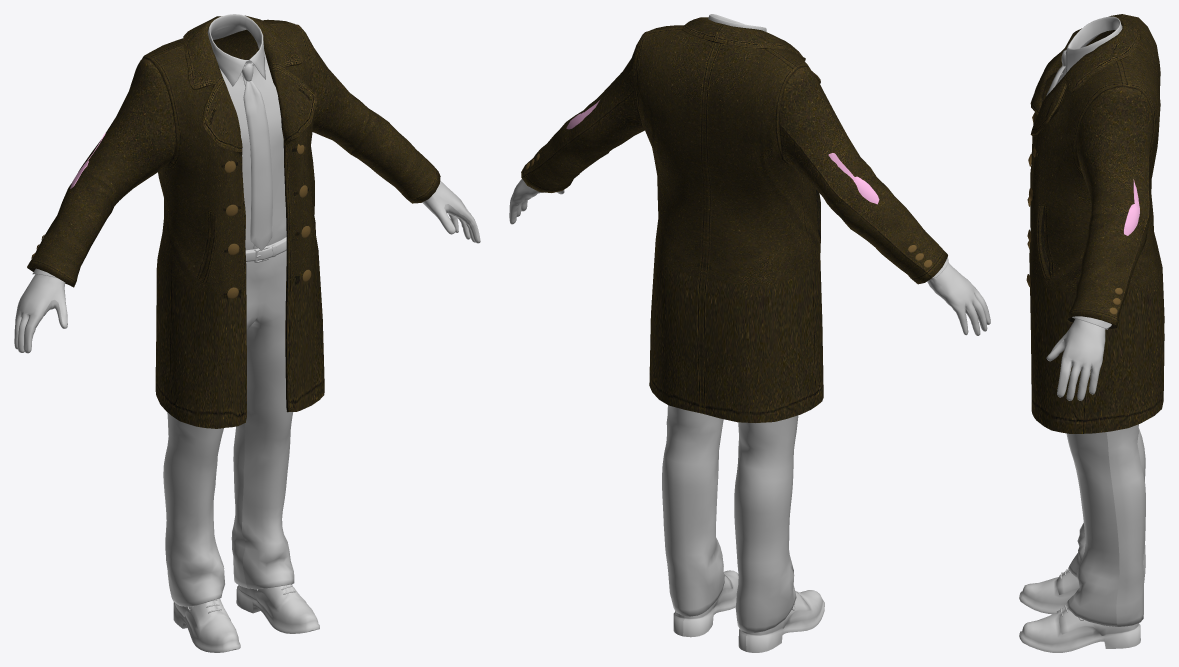
Rendered from detectivebody(no rig).fbx.
3 renders of one model, left to right at view 1: azimuth 30°, elevation 25°; view 2: azimuth 150°, elevation 25°; view 3: azimuth 270°, elevation 25°, orthographic. The views are drawn at different scales.
Visible parts, largest first — view 1: WinterCoatLong2.smd, Pants2.smd, Shoes3.smd, Gloves.smd; view 2: WinterCoatLong2.smd, Pants2.smd, Shoes3.smd, Gloves.smd, ShirtElbowPads.smd; view 3: WinterCoatLong2.smd, Pants2.smd, Shoes3.smd, Gloves.smd, ShirtElbowPads.smd.
Boxes of the visible parts, box(x1,y1,x2,y2) form: WinterCoatLong2.smd: box(27, 14, 440, 428); Pants2.smd: box(163, 237, 294, 606); Shoes3.smd: box(173, 584, 319, 652); Gloves.smd: box(14, 181, 480, 353); WinterCoatLong2.smd: box(521, 14, 948, 422); Pants2.smd: box(662, 405, 798, 632); Shoes3.smd: box(673, 570, 824, 652); Gloves.smd: box(509, 179, 990, 335); ShirtElbowPads.smd: box(566, 100, 879, 204); WinterCoatLong2.smd: box(1026, 14, 1164, 433); Pants2.smd: box(1066, 424, 1145, 626); Shoes3.smd: box(1019, 569, 1140, 652); Gloves.smd: box(1046, 318, 1105, 400); ShirtElbowPads.smd: box(1123, 179, 1139, 235).
Size of the model in its own units: 98.65 by 123 by 26.75.
